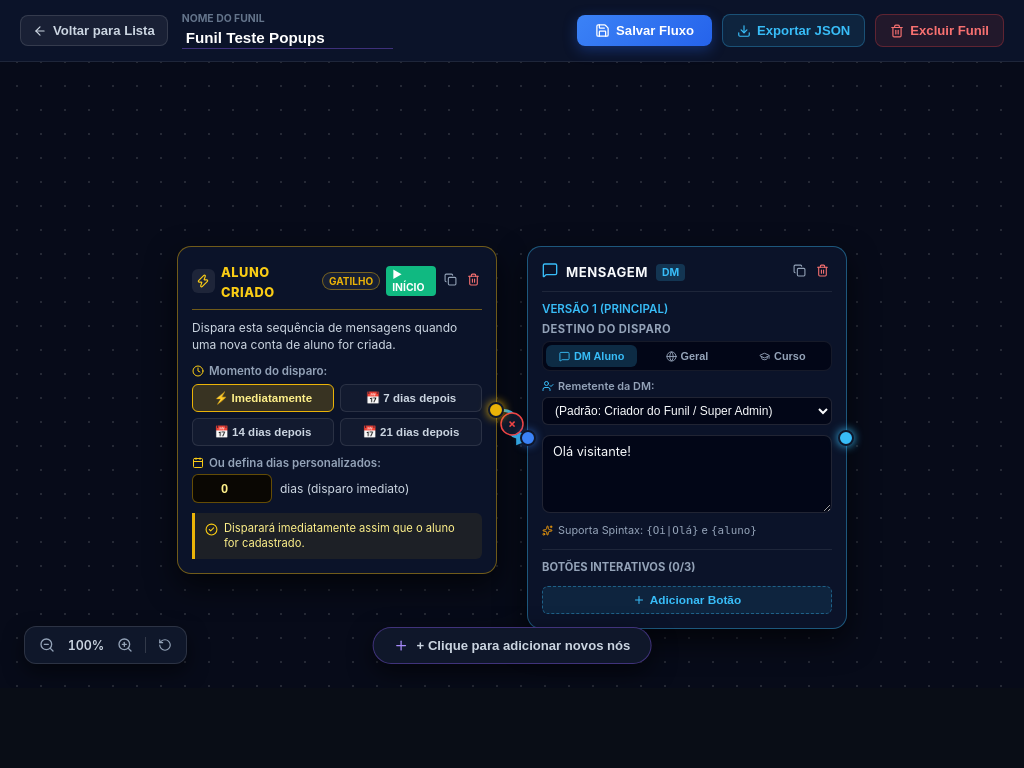
Scenario: FunnelCanvasPage Component - Confirmação de Ações em Nós › abre popup de confirmação ao clicar em duplicar nó e cria a cópia ao confirmar
Expected: the field showing "Funil Teste Popups" is shown, [182,27,393,49]
Expected: the text box showing "Olá visitante!" is shown, [542,435,832,513]
Encontra botões de duplicar (pode haver mais de um nó)
Click the button titled "Duplicar Nó" at {"x": 800, "y": 272}, box [790,261,809,283]
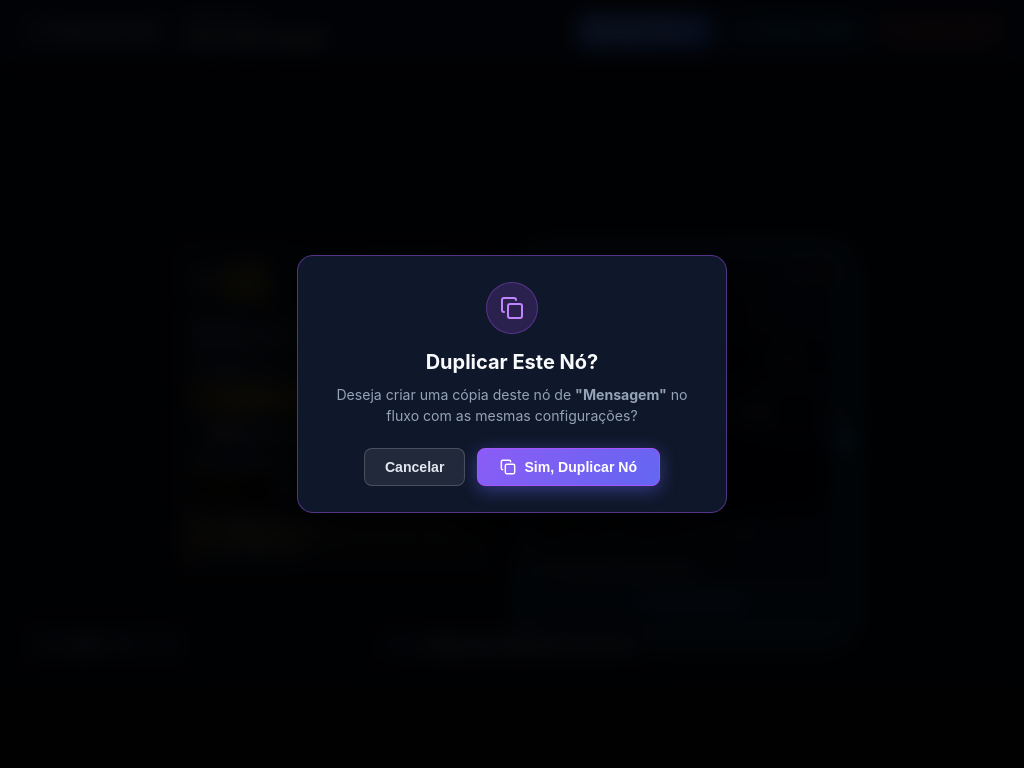
Now the element with test id "funnel-node-duplicate-modal" is shown, box [297,255,727,513]
Now the heading "Duplicar Este Nó?" is shown, box [426,350,598,374]
Confirma a duplicação
Click the button with test id "confirm-node-action-btn" at {"x": 569, "y": 467}, box [477,448,660,486]
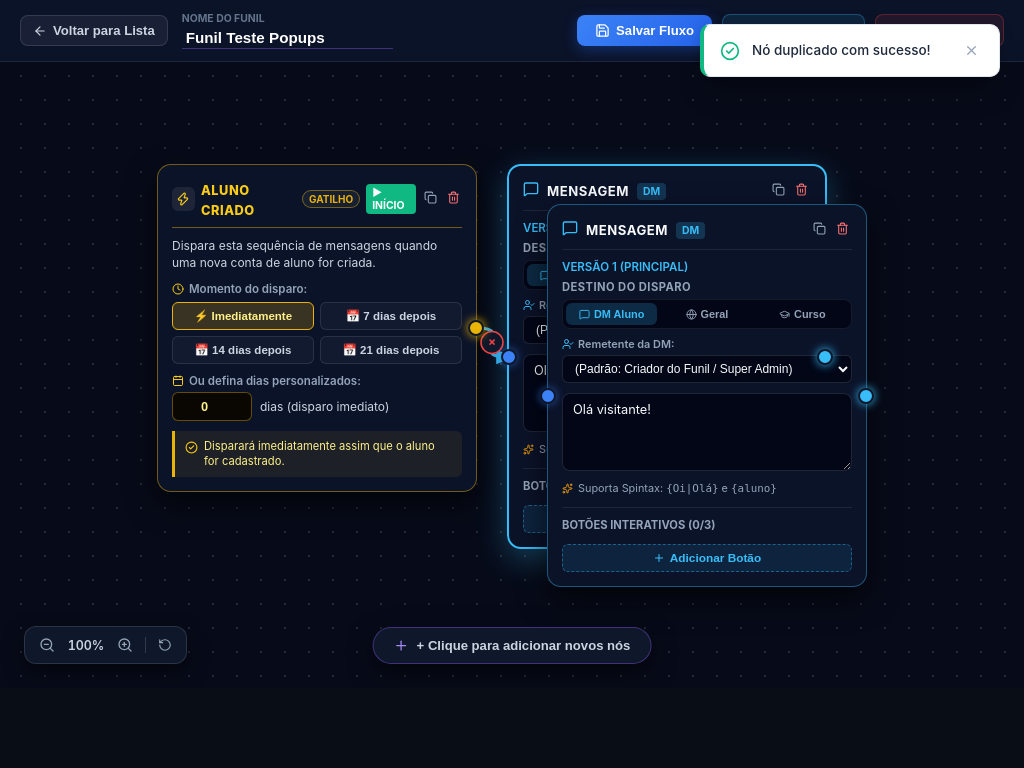
Now the element with test id "funnel-node-duplicate-modal" is gone
